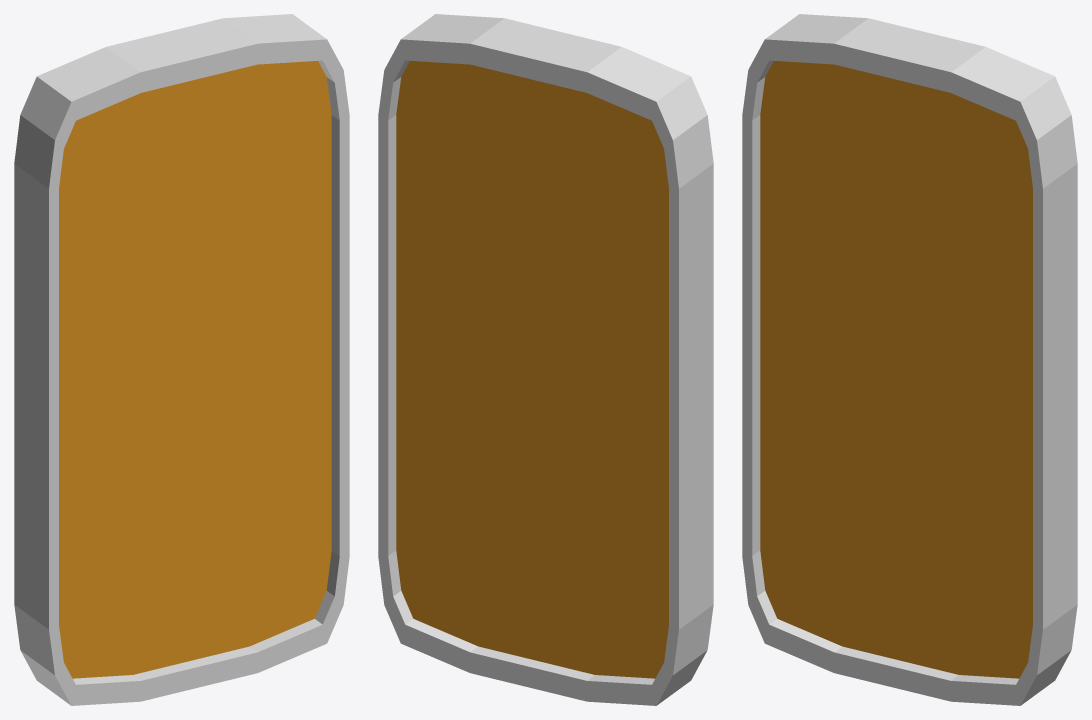
Rendered from sign1.fbx.
3 renders of one model, left to right at view 1: azimuth 30°, elevation 25°; view 2: azimuth 150°, elevation 25°; view 3: azimuth 330°, elevation 25°, orthographic.
Parts seen in each view (by area): view 1: Cube.002; view 2: Cube.002; view 3: Cube.002.
Part boxes in pixels (x1,y1,x2,y2): Cube.002: (14, 14, 349, 705); Cube.002: (378, 14, 713, 705); Cube.002: (742, 14, 1077, 705).
Bounding box in the file's own units: 5 × 10 × 1.
